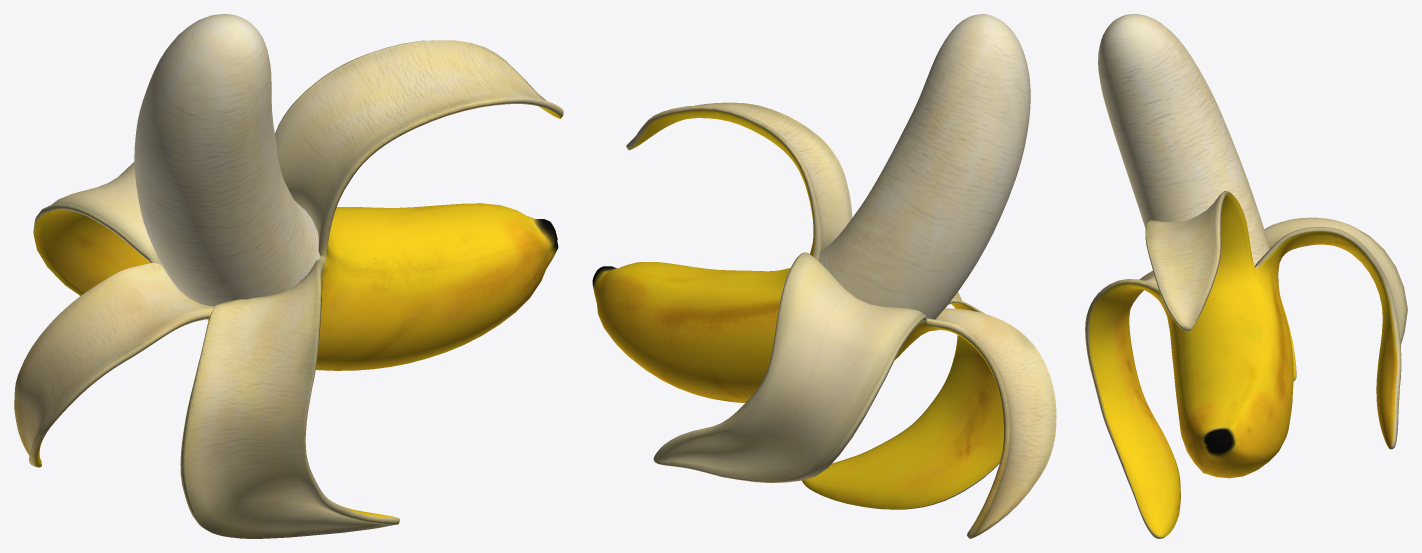
The model's file is banana.fbx.
The picture shows the model from 3 angles, left to right: view 1: azimuth 30°, elevation 25°; view 2: azimuth 150°, elevation 25°; view 3: azimuth 270°, elevation 25°; orthographic projection. The views are drawn at different scales.
Parts seen in each view (by area): view 1: node_id5; view 2: node_id5; view 3: node_id5.
Part boxes in pixels (x1,y1,x2,y2): node_id5: [14, 14, 563, 538]; node_id5: [592, 14, 1056, 538]; node_id5: [1085, 14, 1407, 538].
Bounding box in the file's own units: 0.3177 × 0.3322 × 0.2151.
Materials: 1 (1 with a texture image).
